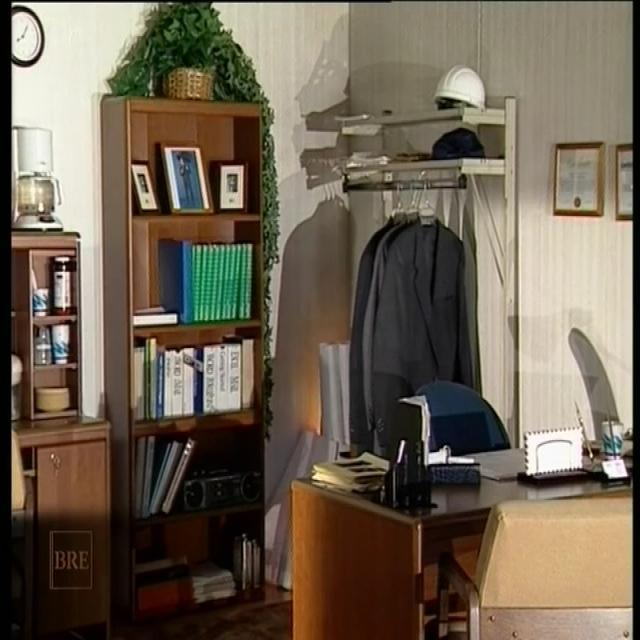Fire: (284, 292, 343, 451)
